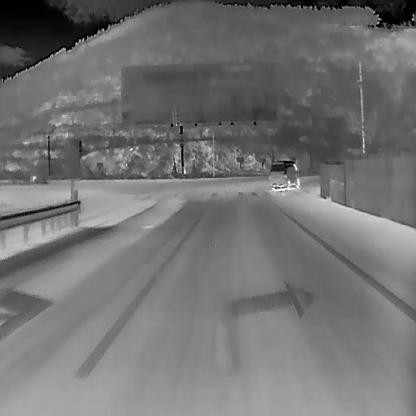car: (269, 159, 300, 191)
